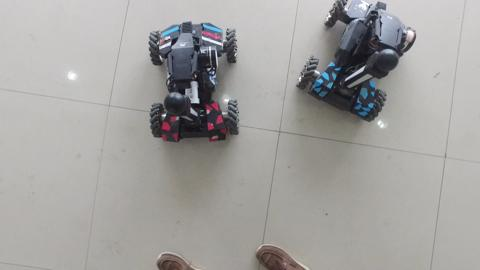chariot: (287, 1, 422, 125), (143, 20, 244, 152)
